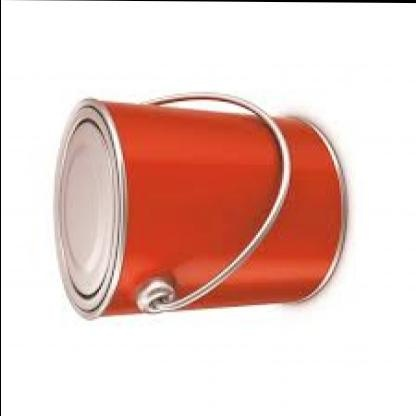trash: (55, 94, 345, 317)
